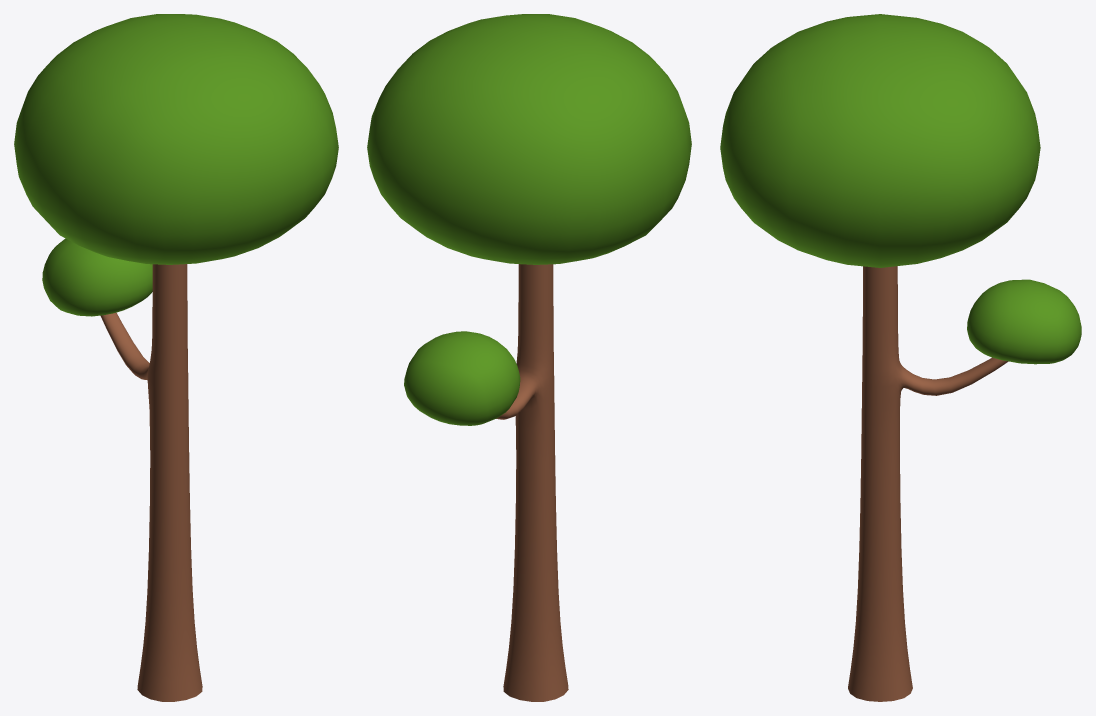
File: tree8.fbx
3 views of the same model, side by side, from view 1: azimuth 30°, elevation 25°; view 2: azimuth 150°, elevation 25°; view 3: azimuth 270°, elevation 25° (orthographic).
Parts seen in each view (by area): view 1: Cube.094; view 2: Cube.094; view 3: Cube.094.
Part boxes in pixels (box(x1,y1,x2,y2)): Cube.094: box(14, 14, 338, 701); Cube.094: box(367, 14, 691, 701); Cube.094: box(720, 14, 1081, 701).
Size of the model in its own units: 2.75 by 3.1 by 6.2.
